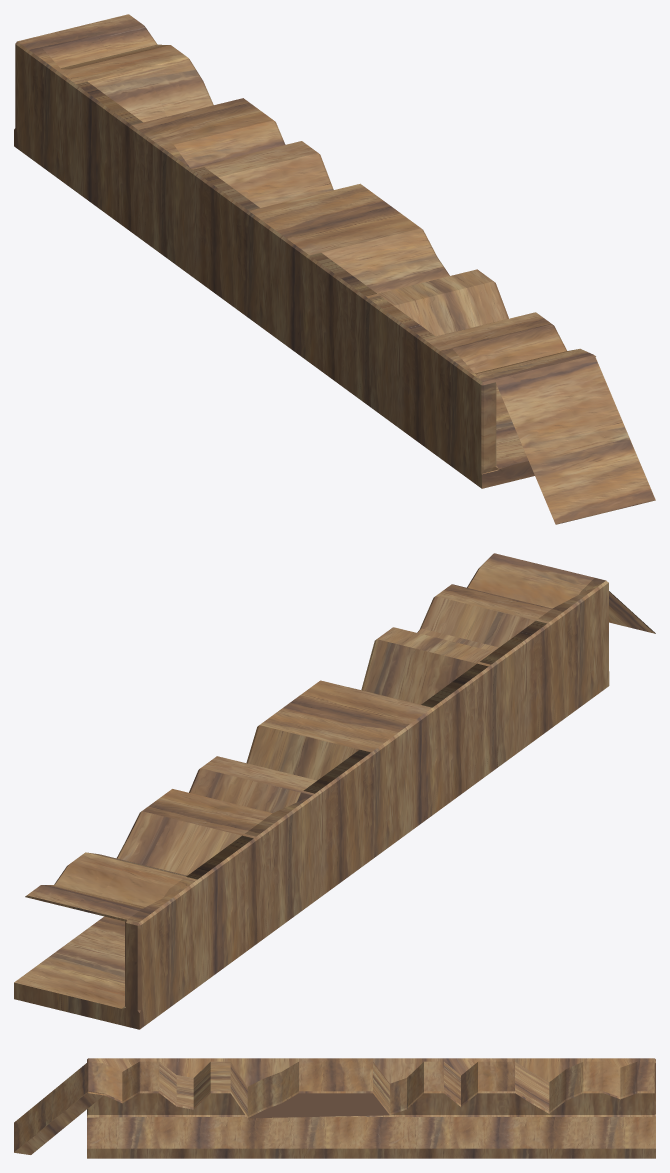
The model's file is obstacle.obj.
3 views of the same model, one above another, from view 1: azimuth 30°, elevation 25°; view 2: azimuth 150°, elevation 25°; view 3: azimuth 270°, elevation 25° (orthographic). The views are drawn at different scales.
Visible parts, largest first — view 1: Cube_Cube.001; view 2: Cube_Cube.001; view 3: Cube_Cube.001.
Part boxes in pixels (x1,y1,x2,y2): Cube_Cube.001: (14,14,655,524); Cube_Cube.001: (14,553,655,1029); Cube_Cube.001: (14,1058,655,1158).
Bounding box in the file's own units: 15.84 × 12.74 × 116.
